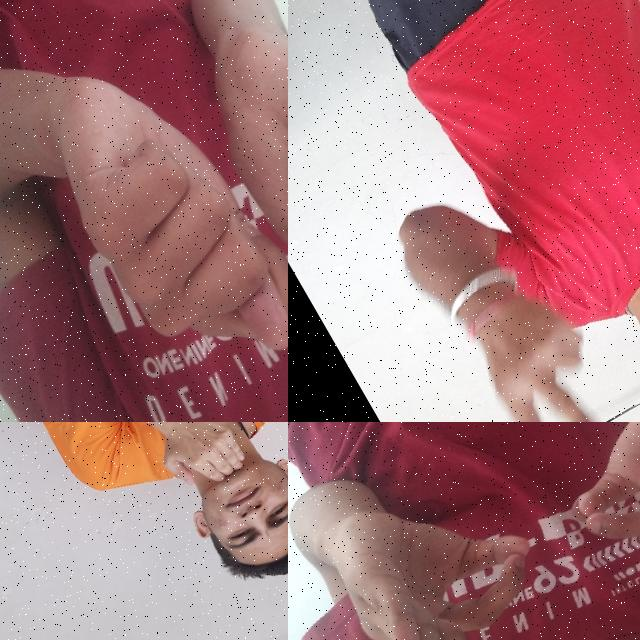Chin Flick: (127, 422, 288, 613)
Dulya: (1, 14, 288, 416), (167, 0, 288, 349)
Okay: (307, 439, 595, 640), (525, 422, 640, 630)
Reversed Victory: (433, 249, 640, 422)
